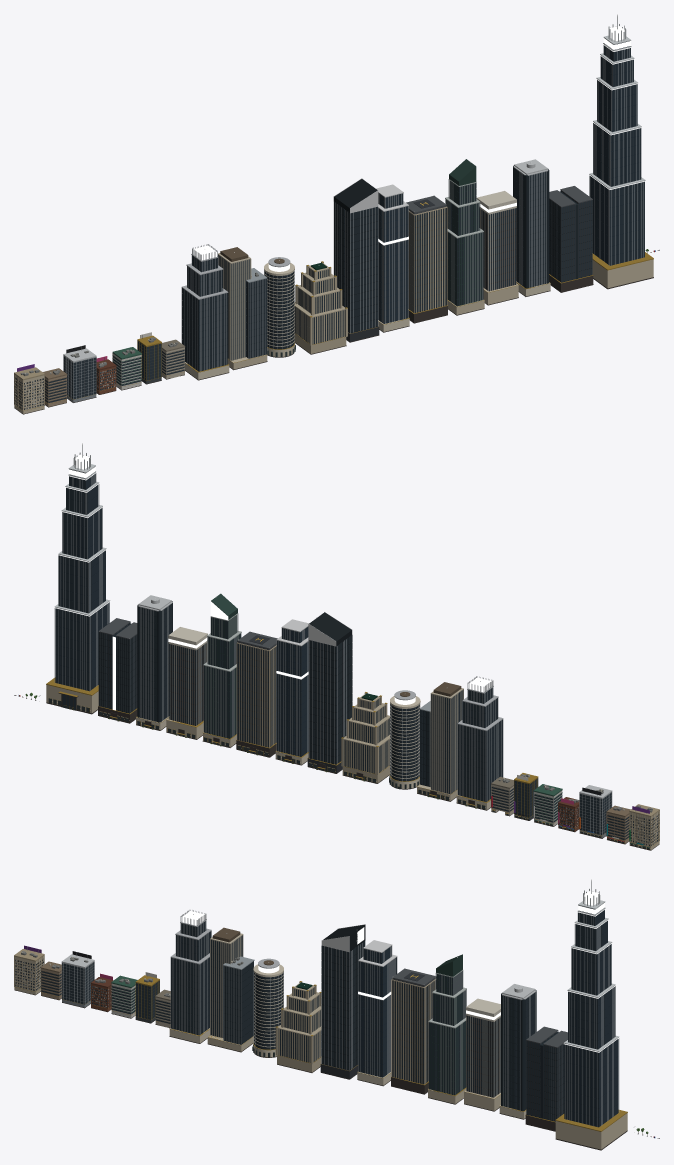
File: city.glb
3 views of the same model, one above another, from view 1: azimuth 30°, elevation 25°; view 2: azimuth 150°, elevation 25°; view 3: azimuth 330°, elevation 25° (orthographic).
Parts seen in each view (by area): view 1: city_super_body, city_twr_e_body, city_twr_a_body, city_twr_h_body, city_twr_g_body, city_twr_b_body, city_twr_j_body, city_twr_f_body, city_twr_k_body, city_twr_d_body, city_twr_i_body, city_twr_c_body (+7 smaller); view 2: city_super_body, city_twr_e_body, city_twr_a_body, city_twr_g_body, city_twr_h_body, city_twr_f_body, city_twr_j_body, city_twr_b_body, city_twr_i_body, city_twr_k_body, city_twr_d_body, city_twr_c_body (+7 smaller); view 3: city_super_body, city_twr_e_body, city_twr_h_body, city_twr_b_body, city_twr_f_body, city_twr_a_body, city_twr_g_body, city_twr_j_body, city_twr_i_body, city_twr_k_body, city_twr_d_body, city_twr_c_body (+7 smaller).
Boxes of the visible parts, x1,y1,x2,y2 form: city_super_body: [589, 14, 653, 289]; city_twr_e_body: [333, 178, 379, 342]; city_twr_a_body: [181, 244, 229, 380]; city_twr_h_body: [445, 159, 484, 315]; city_twr_g_body: [406, 195, 447, 323]; city_twr_b_body: [218, 247, 267, 370]; city_twr_j_body: [513, 159, 550, 296]; city_twr_f_body: [376, 184, 409, 332]; city_twr_k_body: [549, 186, 593, 292]; city_twr_d_body: [294, 261, 347, 354]; city_twr_i_body: [476, 190, 518, 305]; city_twr_c_body: [264, 257, 295, 357]; city_super_body: [46, 443, 110, 714]; city_twr_e_body: [307, 612, 352, 773]; city_twr_a_body: [456, 676, 503, 810]; city_twr_g_body: [236, 631, 277, 757]; city_twr_h_body: [202, 593, 241, 747]; city_twr_f_body: [275, 619, 308, 765]; city_twr_j_body: [136, 595, 172, 730]; city_twr_b_body: [417, 682, 463, 801]; city_twr_i_body: [166, 627, 207, 739]; city_twr_k_body: [98, 618, 137, 723]; city_twr_d_body: [341, 692, 389, 783]; city_twr_c_body: [389, 690, 420, 789]; city_super_body: [555, 879, 627, 1150]; city_twr_e_body: [320, 924, 365, 1079]; city_twr_h_body: [428, 954, 466, 1104]; city_twr_b_body: [207, 927, 254, 1052]; city_twr_f_body: [357, 940, 397, 1086]; city_twr_a_body: [169, 910, 211, 1043]; city_twr_g_body: [391, 968, 436, 1094]; city_twr_j_body: [499, 984, 536, 1119]; city_twr_i_body: [464, 998, 500, 1111]; city_twr_k_body: [525, 1026, 567, 1131]; city_twr_d_body: [275, 981, 321, 1072]; city_twr_c_body: [252, 958, 283, 1057].
Size of the model in its own units: 839 by 322 by 63.85.
